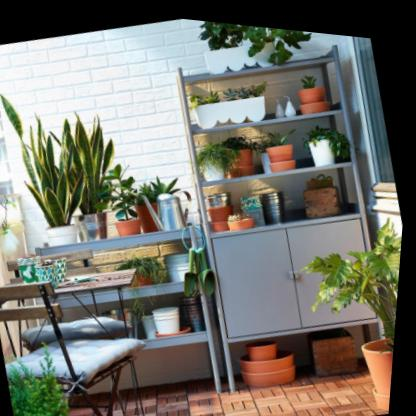Chair: (0, 249, 183, 416)
